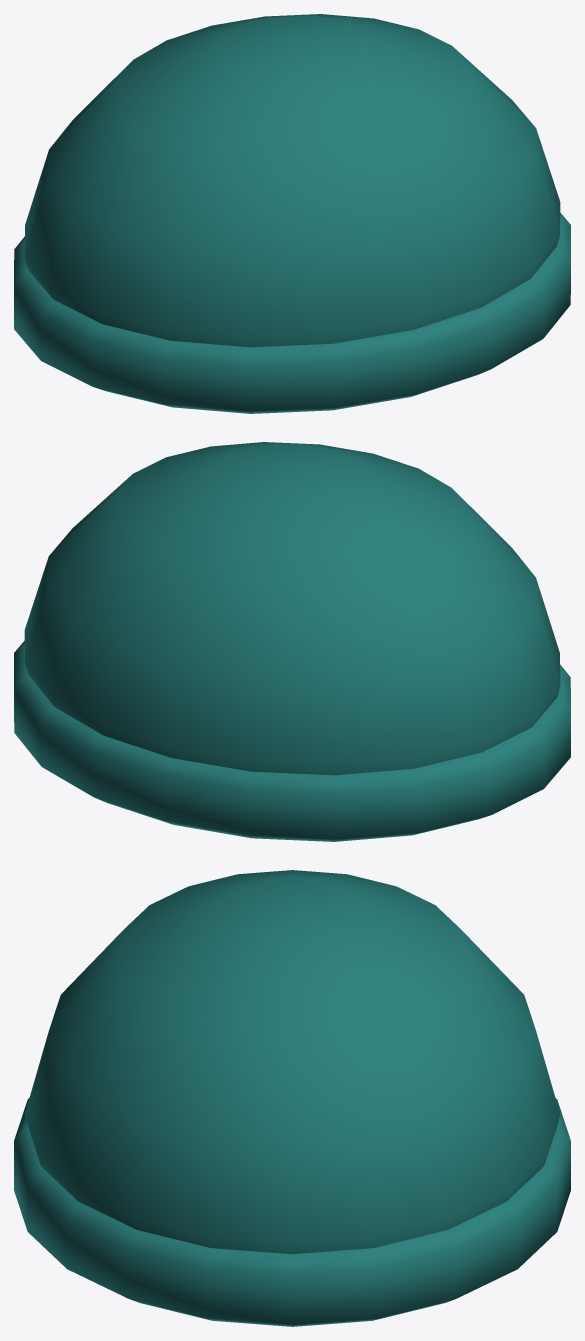
The model's file is beanie.glb.
3 views of the same model, one above another, from view 1: azimuth 30°, elevation 25°; view 2: azimuth 150°, elevation 25°; view 3: azimuth 270°, elevation 25° (orthographic). The views are drawn at different scales.
Visible parts, largest first — view 1: beanie; view 2: beanie; view 3: beanie.
Part boxes in pixels (box(x1,y1,x2,y2)): beanie: box(14, 14, 570, 413); beanie: box(14, 442, 570, 841); beanie: box(14, 870, 570, 1326).
Bounding box in the file's own units: 0.5314 × 0.273 × 0.4659.
